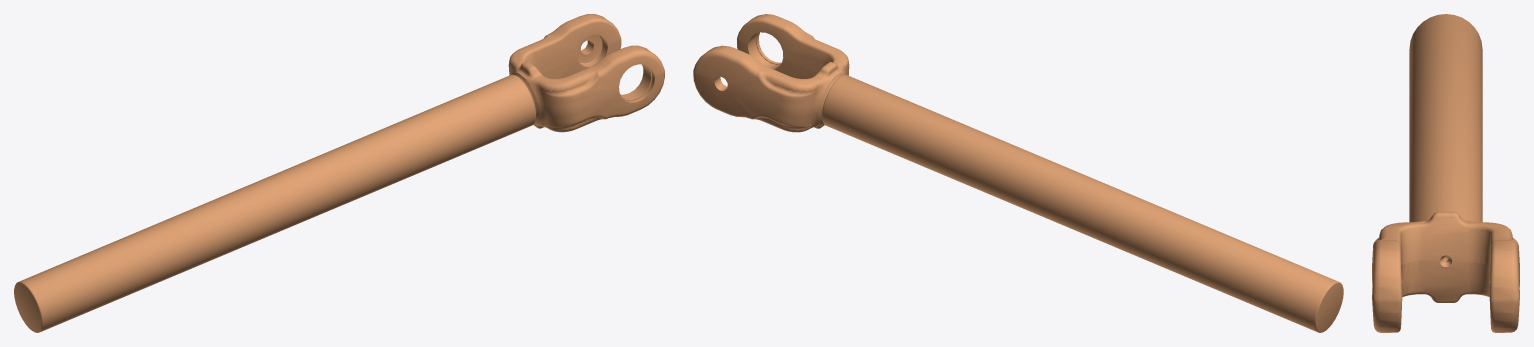
The model's file is piston_link.dae.
The picture shows the model from 3 angles, left to right: view 1: azimuth 30°, elevation 25°; view 2: azimuth 150°, elevation 25°; view 3: azimuth 270°, elevation 25°; orthographic projection. The views are drawn at different scales.
Parts seen in each view (by area): view 1: piston_link; view 2: piston_link; view 3: piston_link.
Boxes of the visible parts, x1,y1,x2,y2 form: piston_link: [14, 14, 664, 332]; piston_link: [693, 14, 1343, 332]; piston_link: [1372, 14, 1519, 332].
Bounding box in the file's own units: 0.6434 × 0.1011 × 0.157.
